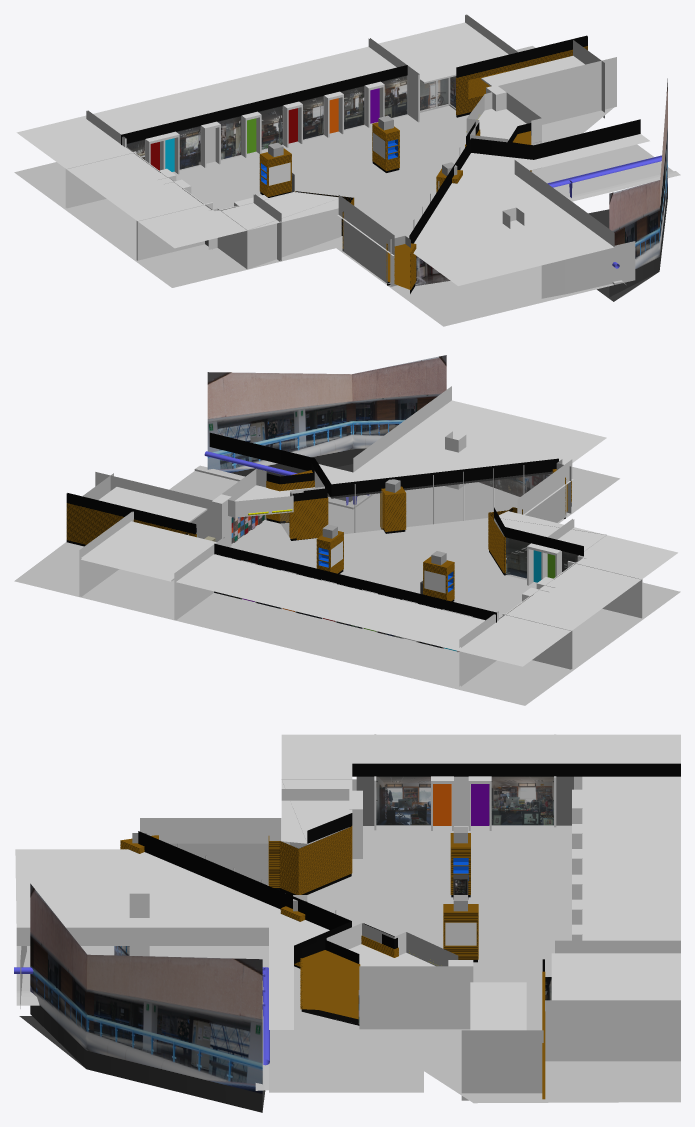
File: Escenario.fbx
The picture shows the model from 3 angles, top to bottom: view 1: azimuth 30°, elevation 25°; view 2: azimuth 150°, elevation 25°; view 3: azimuth 270°, elevation 25°; orthographic projection. The views are drawn at different scales.
Visible parts, largest first — view 1: Escenario; view 2: Escenario; view 3: Escenario.
Boxes of the visible parts, x1,y1,x2,y2 form: Escenario: (14,14,680,326); Escenario: (14,355,680,705); Escenario: (14,734,680,1112).
Size of the model in its own units: 34.46 by 7.93 by 30.31.
